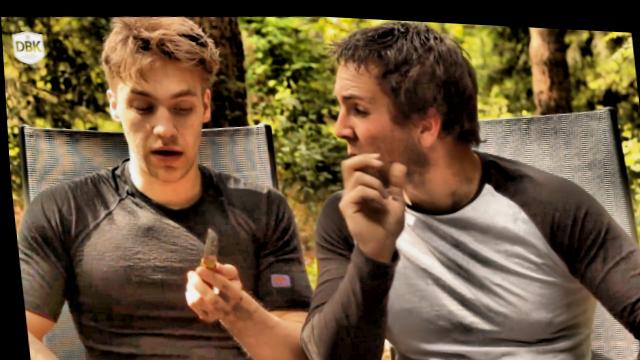knife: (162, 215, 246, 319)
